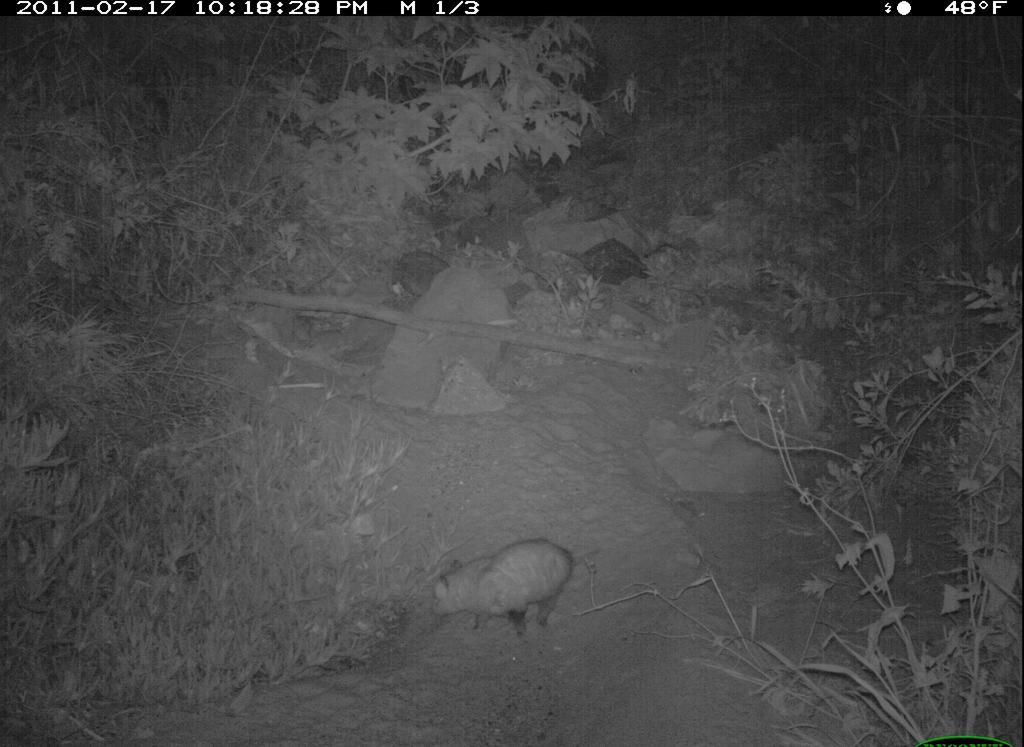opossum: (410, 534, 588, 642)
